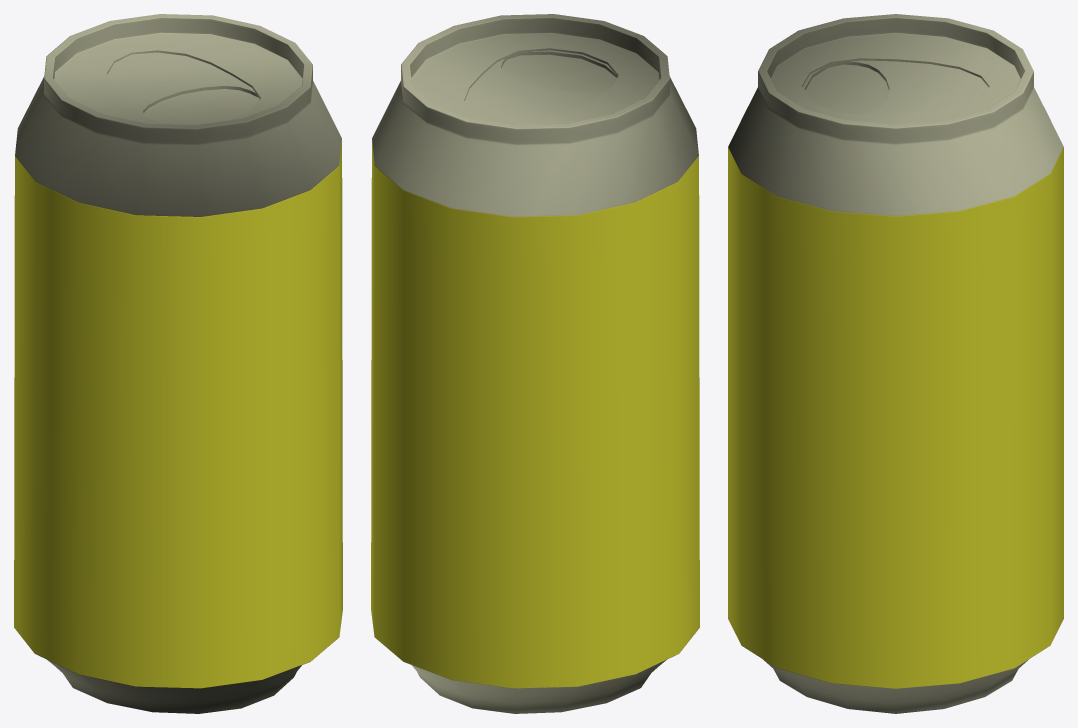
Rendered from lattina 1.fbx.
3 renders of one model, left to right at view 1: azimuth 30°, elevation 25°; view 2: azimuth 150°, elevation 25°; view 3: azimuth 270°, elevation 25°, orthographic.
Visible parts, largest first — view 1: pCylinder1; view 2: pCylinder1; view 3: pCylinder1.
Part boxes in pixels (x1=…): pCylinder1: x1=14, y1=14, x2=342, y2=713; pCylinder1: x1=371, y1=14, x2=699, y2=713; pCylinder1: x1=728, y1=14, x2=1063, y2=713.
Bounding box in the file's own units: 0.9828 × 1.93 × 0.9931.
